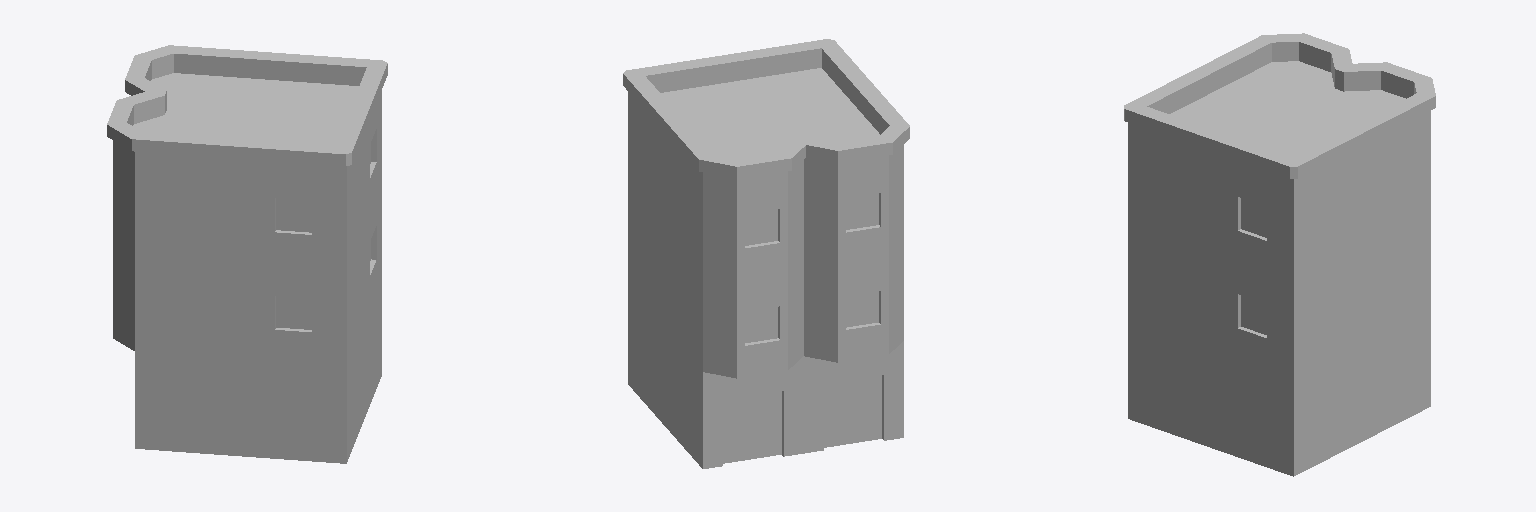
Rendered from variant_7.obj.
3 renders of one model, left to right at view 1: azimuth 30°, elevation 25°; view 2: azimuth 150°, elevation 25°; view 3: azimuth 270°, elevation 25°, orthographic.
Visible parts, largest first — view 1: Building; view 2: Building; view 3: Building.
Boxes of the visible parts, x1,y1,x2,y2 form: Building: [107, 45, 387, 463]; Building: [623, 39, 909, 468]; Building: [1124, 33, 1435, 476].
Bounding box in the file's own units: 1.18 × 1.28 × 1.16.